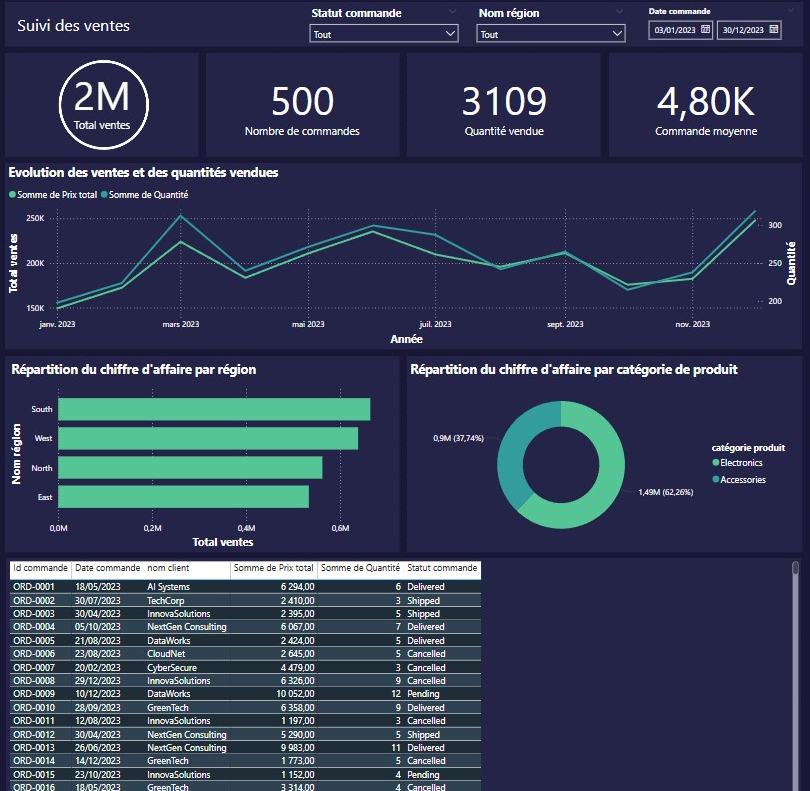

This screenshot's page, from the dashboard's own definition file:
{"tool":"powerbi","page":{"name":"suivi ventes","canvas":[1280,2000],"ordinal":0},"visuals":[{"type":"shape","box":[12.7,15.5,76.3,1349.5],"z":0},{"type":"shape","box":[99.8,0,1165.4,120.9],"z":1000},{"type":"shape","box":[100.3,130,267.1,163.9],"z":2000},{"type":"shape","box":[404.2,130,267.1,163.9],"z":3000},{"type":"shape","box":[702.3,130,267.1,163.9],"z":4000},{"type":"shape","box":[997.7,130,267.1,163.9],"z":5000},{"type":"shape","box":[100.3,318,1164.4,309.5],"z":6000},{"type":"shape","box":[100.3,638.7,582.2,309.5],"z":7000},{"type":"shape","box":[702.3,638.7,562.4,309.5],"z":8000},{"type":"shape","box":[100.3,962.3,1164.4,402.7],"z":9000},{"type":"textbox","box":[106,53.7,261.4,52.3],"z":10000},{"type":"actionButton","box":[0,0,100,40],"z":11000},{"type":"card","fields":{"Values":["ventes.Total ventes"]},"box":[105.8,130,261.5,163.2],"z":12000},{"type":"card","fields":{"Values":["ventes.Nombre de commandes"]},"box":[403.6,130,261.5,163.2],"z":13000},{"type":"card","fields":{"Values":["ventes.Quabtité vendue"]},"box":[702.9,130,261.5,163.2],"z":14000},{"type":"card","fields":{"Values":["Mesures.Commande moyenne"]},"box":[999.1,130,261.5,163.2],"z":15000},{"type":"lineChart","title":"Evolution du chiffre d''affaires et volumes de ventes","fields":{"Category":["ventes.Date commande.Variation.Hiérarchie de dates.Année","ventes.Date commande.Variation.Hiérarchie de dates.Trimestre","ventes.Date commande.Variation.Hiérarchie de dates.Mois"],"Y":["Mesures.Total ventes"],"Y2":["Mesures.Nombre de commandes"]},"box":[99.8,317.4,1160.9,309.9],"z":16000},{"type":"barChart","title":"Répartition du chiffre d''affaires par région","fields":{"Y":["Mesures.Total ventes"],"Category":["Régions.Nom région"]},"box":[99.8,637.9,583.5,309.9],"z":17000},{"type":"donutChart","title":"Catégorie de produit","fields":{"Category":["Produits.Catégorie produit"],"Y":["Mesures.Total ventes"]},"box":[702.9,639.4,566.8,309.9],"z":18000},{"type":"slicer","fields":{"Values":["Régions.Nom région"]},"box":[391.5,48.4,205.6,63.5],"z":19000},{"type":"slicer","fields":{"Values":["ventes.Statut commande"]},"box":[651.5,48.4,205.6,63.5],"z":20000},{"type":"slicer","fields":{"Values":["ventes.Date commande"]},"box":[882.8,48.4,365.8,75.6],"z":21000},{"type":"tableEx","fields":{"Values":["ventes.ID commande","ventes.Date commande","Clients.Nom client","Sum(ventes.Prix total)","Sum(ventes.Quantité)","ventes.Statut commande"]},"box":[104.7,962.4,1155.4,402.4],"z":21001}]}

Visuals, with their boxes on the page's 1280x2000 design canvas (x1, y1, x2, y2). These are canvas units, not pixel positions in the 810x791 screenshot, which may show the page scaled, cropped or inside an application window:
shape: [13, 16, 89, 1365]
shape: [100, 0, 1265, 121]
shape: [100, 130, 367, 294]
shape: [404, 130, 671, 294]
shape: [702, 130, 969, 294]
shape: [998, 130, 1265, 294]
shape: [100, 318, 1265, 628]
shape: [100, 639, 682, 948]
shape: [702, 639, 1265, 948]
shape: [100, 962, 1265, 1365]
textbox: [106, 54, 367, 106]
actionButton: [0, 0, 100, 40]
card - ventes.Total ventes: [106, 130, 367, 293]
card - ventes.Nombre de commandes: [404, 130, 665, 293]
card - ventes.Quabtité vendue: [703, 130, 964, 293]
card - Mesures.Commande moyenne: [999, 130, 1261, 293]
"Evolution du chiffre d''affaires et volumes de ventes" lineChart: [100, 317, 1261, 627]
"Répartition du chiffre d''affaires par région" barChart: [100, 638, 683, 948]
"Catégorie de produit" donutChart: [703, 639, 1270, 949]
slicer - Régions.Nom région: [392, 48, 597, 112]
slicer - ventes.Statut commande: [652, 48, 857, 112]
slicer - ventes.Date commande: [883, 48, 1249, 124]
tableEx - ventes.ID commande x ventes.Date commande: [105, 962, 1260, 1365]
